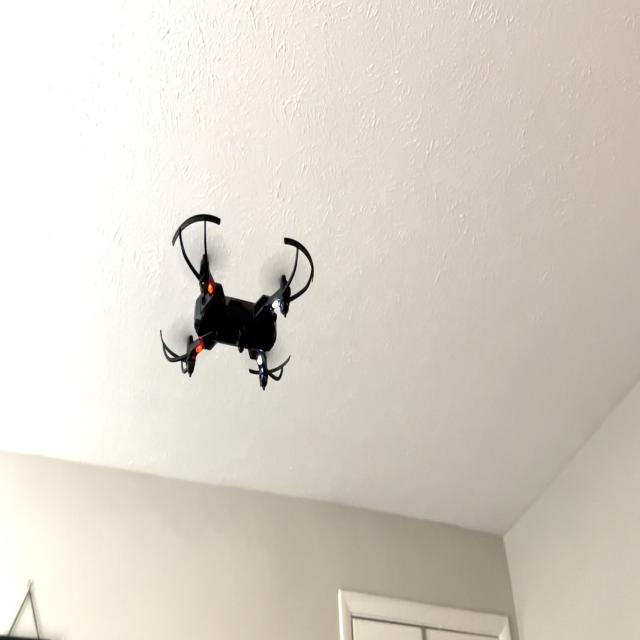drone: (149, 196, 323, 415)
